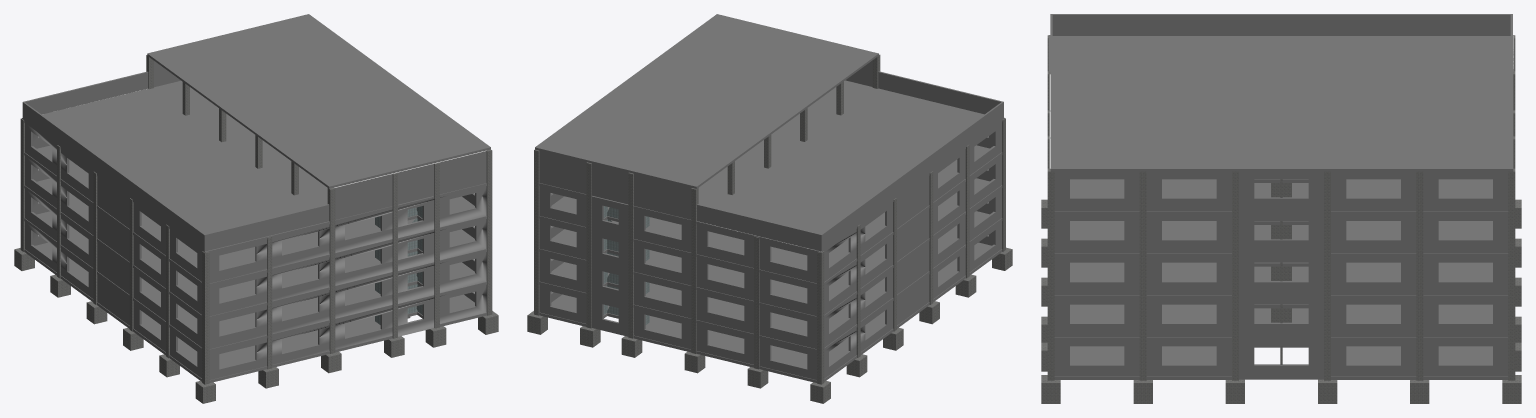
Rendered from DecoBuilding.fbx.
3 views of the same model, side by side, from view 1: azimuth 30°, elevation 25°; view 2: azimuth 150°, elevation 25°; view 3: azimuth 270°, elevation 25° (orthographic). The views are drawn at different scales.
Parts seen in each view (by area): view 1: OTHERS, FLOORS, WALLS, COLUMNS, SUPPORTS, LIFTS; view 2: OTHERS, FLOORS, WALLS, COLUMNS, SUPPORTS, LIFTS; view 3: WALLS, OTHERS, FLOORS, COLUMNS, SUPPORTS, LIFTS.
Part boxes in pixels (x1=…): OTHERS: x1=22, y1=14, x2=490, y2=251; FLOORS: x1=22, y1=80, x2=486, y2=382; WALLS: x1=25, y1=123, x2=486, y2=379; COLUMNS: x1=20, y1=55, x2=492, y2=384; SUPPORTS: x1=14, y1=248, x2=498, y2=403; LIFTS: x1=375, y1=206, x2=422, y2=324; OTHERS: x1=535, y1=14, x2=1003, y2=251; FLOORS: x1=539, y1=80, x2=1004, y2=382; WALLS: x1=539, y1=123, x2=1001, y2=379; COLUMNS: x1=534, y1=54, x2=1005, y2=384; SUPPORTS: x1=527, y1=247, x2=1012, y2=403; LIFTS: x1=603, y1=206, x2=649, y2=324; WALLS: x1=1054, y1=171, x2=1508, y2=379; OTHERS: x1=1049, y1=14, x2=1513, y2=171; FLOORS: x1=1048, y1=35, x2=1514, y2=379; COLUMNS: x1=1047, y1=35, x2=1515, y2=380; SUPPORTS: x1=1041, y1=199, x2=1521, y2=403; LIFTS: x1=1050, y1=137, x2=1291, y2=364.
Bounding box in the file's own units: 20.56 × 22.74 × 12.15.
7 materials, 4 textured.
